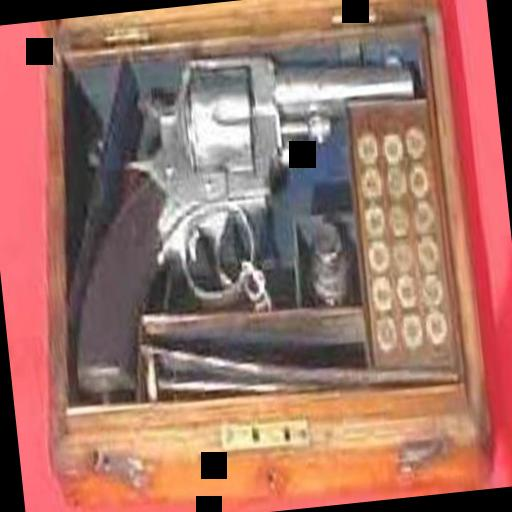Handgun: (39, 26, 446, 396)
